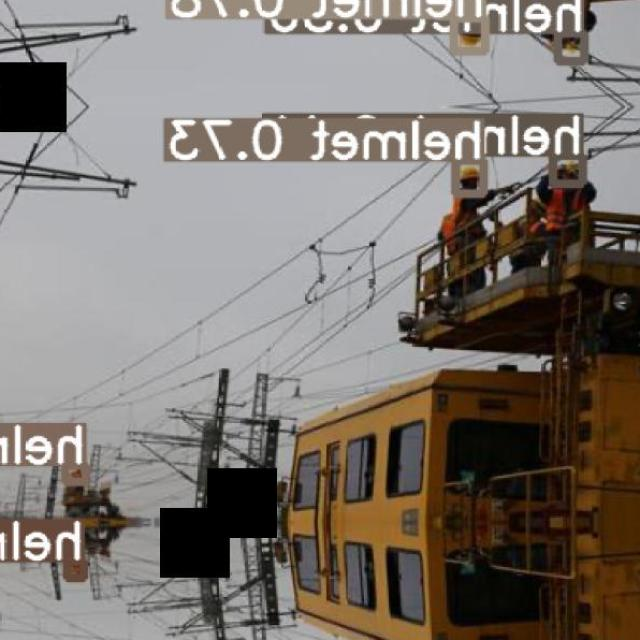helmet: (460, 166, 480, 180)
